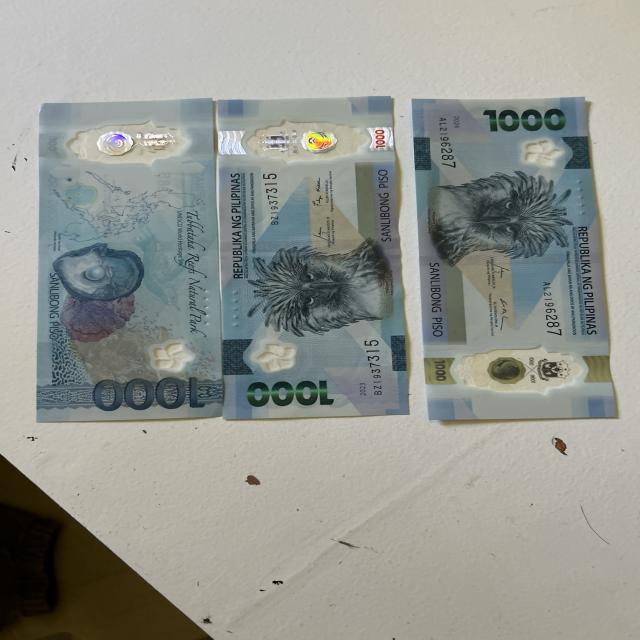clear_window: (434, 348, 592, 395), (52, 121, 206, 164), (246, 115, 380, 163), (252, 340, 306, 379), (142, 343, 198, 375), (518, 138, 561, 168)
eagle: (233, 247, 392, 333), (433, 170, 572, 256)
serial_number: (255, 163, 290, 240), (542, 269, 569, 342), (436, 117, 456, 168)
value: (482, 110, 576, 136)
